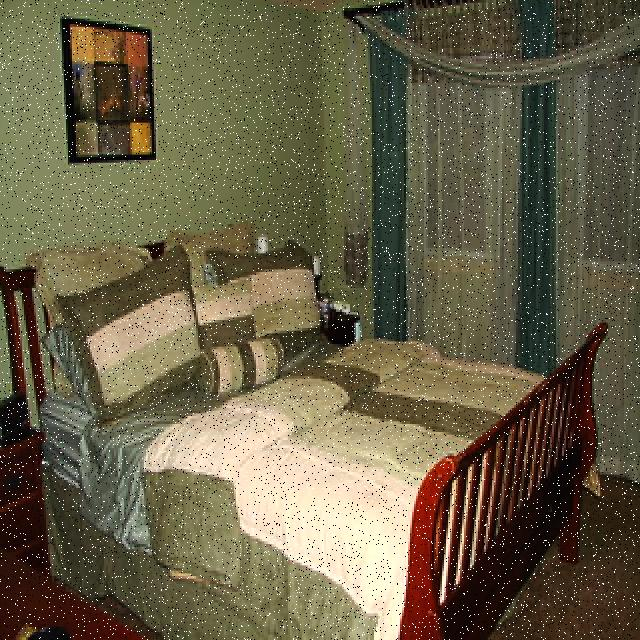bed: (35, 223, 552, 639)
